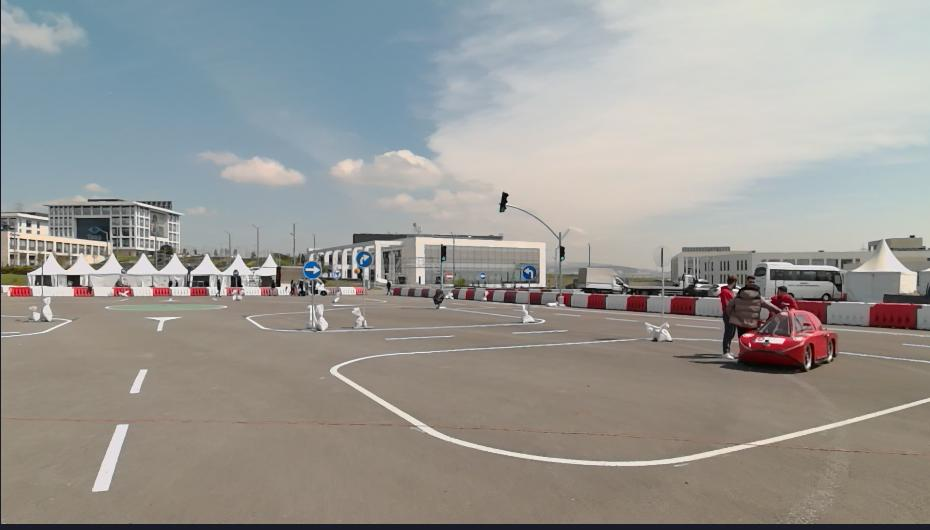nesne: (0, 295, 927, 528), (79, 295, 929, 525), (330, 337, 929, 465), (0, 296, 186, 523), (245, 312, 544, 332), (738, 311, 838, 369), (754, 262, 843, 301), (89, 422, 130, 490), (508, 205, 573, 245), (564, 291, 662, 314), (0, 315, 73, 338), (736, 275, 764, 334), (45, 287, 218, 296), (666, 272, 726, 297), (575, 267, 629, 293), (721, 278, 738, 356), (872, 302, 918, 326), (274, 264, 311, 293), (827, 303, 871, 326), (768, 286, 801, 315), (626, 277, 661, 293), (643, 321, 672, 340), (145, 315, 181, 330), (798, 300, 825, 320), (696, 297, 724, 314), (672, 297, 696, 315), (130, 368, 147, 392), (659, 246, 665, 313), (315, 303, 329, 331), (350, 306, 368, 327), (627, 295, 649, 312), (302, 259, 321, 278), (605, 295, 628, 310), (41, 237, 45, 320), (588, 293, 605, 311), (355, 251, 372, 268), (523, 302, 538, 321), (918, 304, 929, 329), (647, 295, 661, 314), (46, 287, 72, 297), (572, 293, 588, 309), (542, 292, 557, 308), (8, 286, 31, 296), (523, 265, 537, 281), (27, 306, 41, 321), (498, 191, 509, 210), (314, 278, 327, 294), (360, 266, 364, 317), (113, 287, 133, 297), (433, 288, 444, 306), (514, 289, 528, 303), (242, 286, 261, 296), (45, 296, 52, 322), (528, 291, 542, 304), (131, 287, 153, 295), (74, 287, 93, 296), (190, 287, 209, 296), (491, 289, 504, 302), (170, 287, 191, 295), (94, 287, 114, 295), (152, 288, 172, 296), (325, 285, 341, 295), (311, 277, 314, 330), (475, 288, 487, 301), (339, 286, 356, 295), (664, 296, 672, 315), (439, 242, 446, 262), (463, 288, 475, 299), (527, 278, 532, 303), (504, 291, 515, 302), (277, 286, 292, 294), (264, 287, 277, 296), (485, 288, 493, 302), (448, 288, 458, 299), (560, 260, 563, 296), (215, 279, 221, 295), (225, 286, 234, 296), (398, 287, 408, 296), (559, 246, 565, 261), (385, 277, 391, 292), (564, 294, 572, 305), (439, 260, 442, 289), (31, 287, 40, 296), (412, 289, 422, 297), (428, 288, 436, 298), (232, 267, 240, 277), (235, 276, 239, 296), (458, 288, 465, 299), (392, 287, 401, 295), (209, 287, 216, 295), (407, 289, 414, 297), (421, 289, 428, 297), (558, 296, 564, 304), (480, 272, 487, 278), (355, 285, 360, 293)
